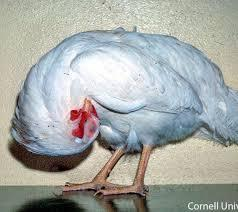AbNormal: (9, 25, 237, 197)
